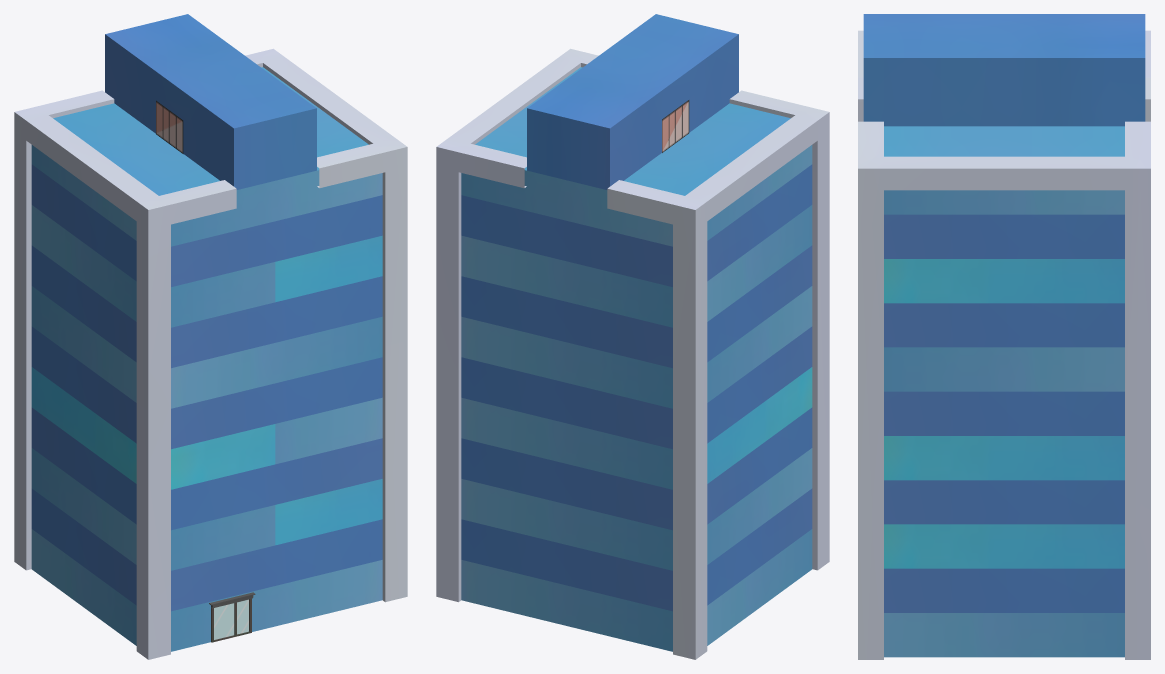
Rendered from house-5.fbx.
3 renders of one model, left to right at view 1: azimuth 30°, elevation 25°; view 2: azimuth 150°, elevation 25°; view 3: azimuth 270°, elevation 25°, orthographic. The views are drawn at different scales.
Visible parts, largest first — view 1: house5; view 2: house5; view 3: house5.
Part boxes in pixels (x1=…): house5: x1=14, y1=14, x2=407, y2=659; house5: x1=436, y1=14, x2=829, y2=659; house5: x1=858, y1=14, x2=1150, y2=659.
Bounding box in the file's own units: 1497 × 2805 × 1342.
